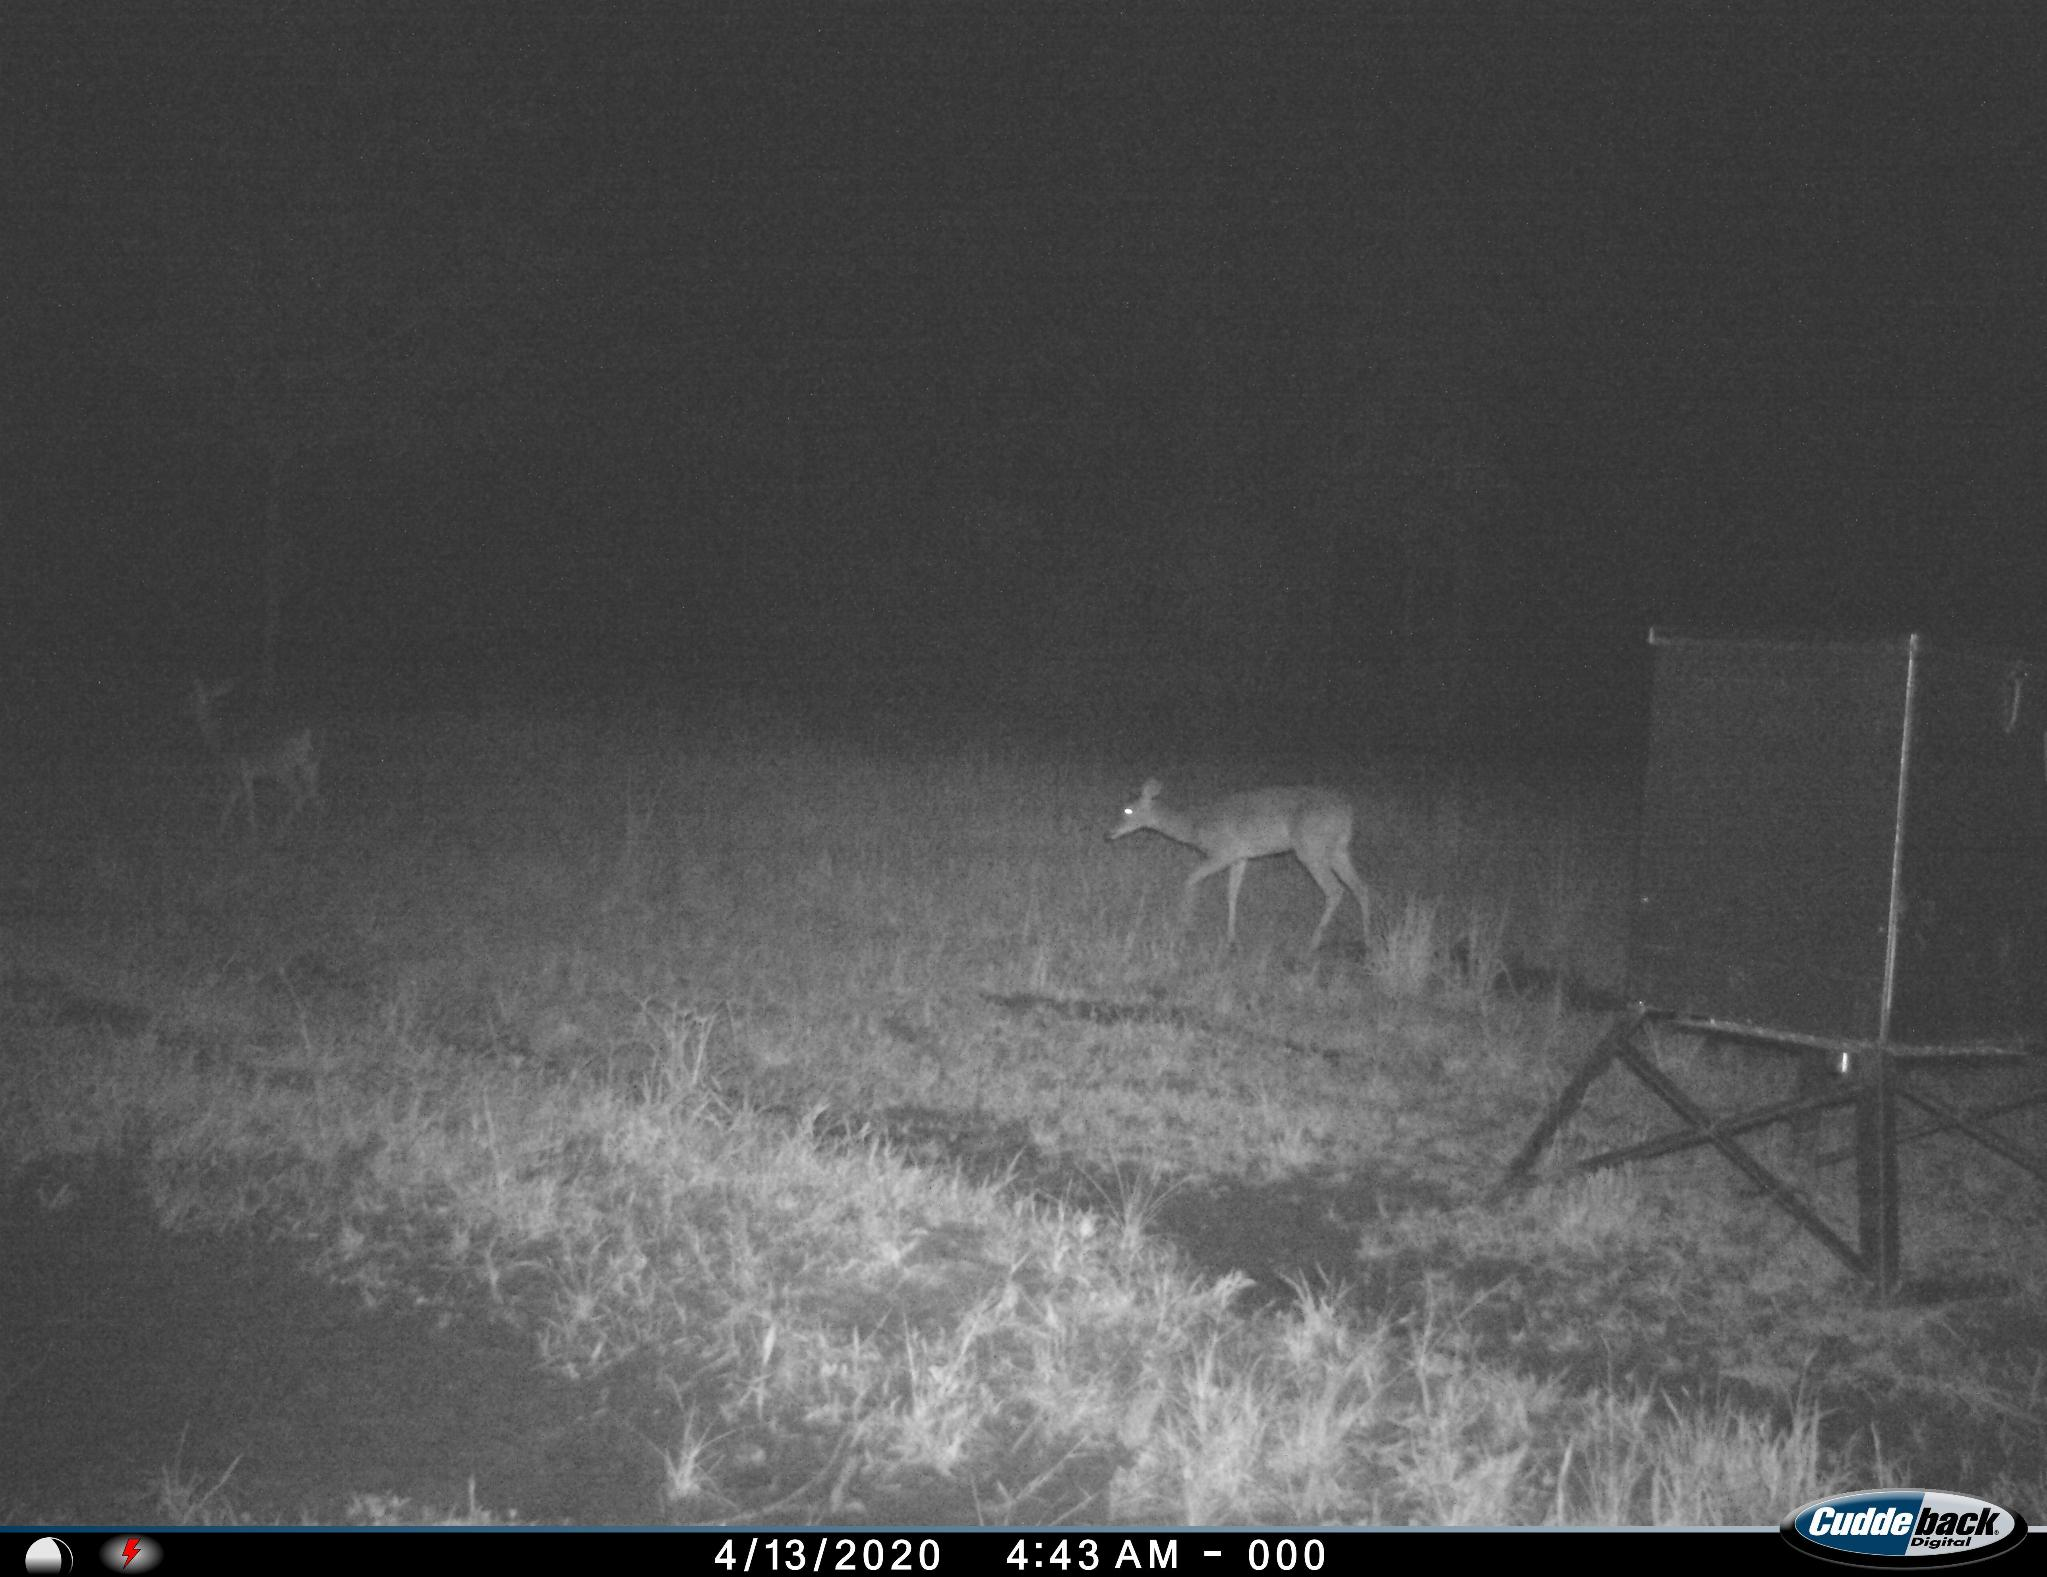Deer: (1090, 767, 1390, 977), (149, 668, 349, 855)
